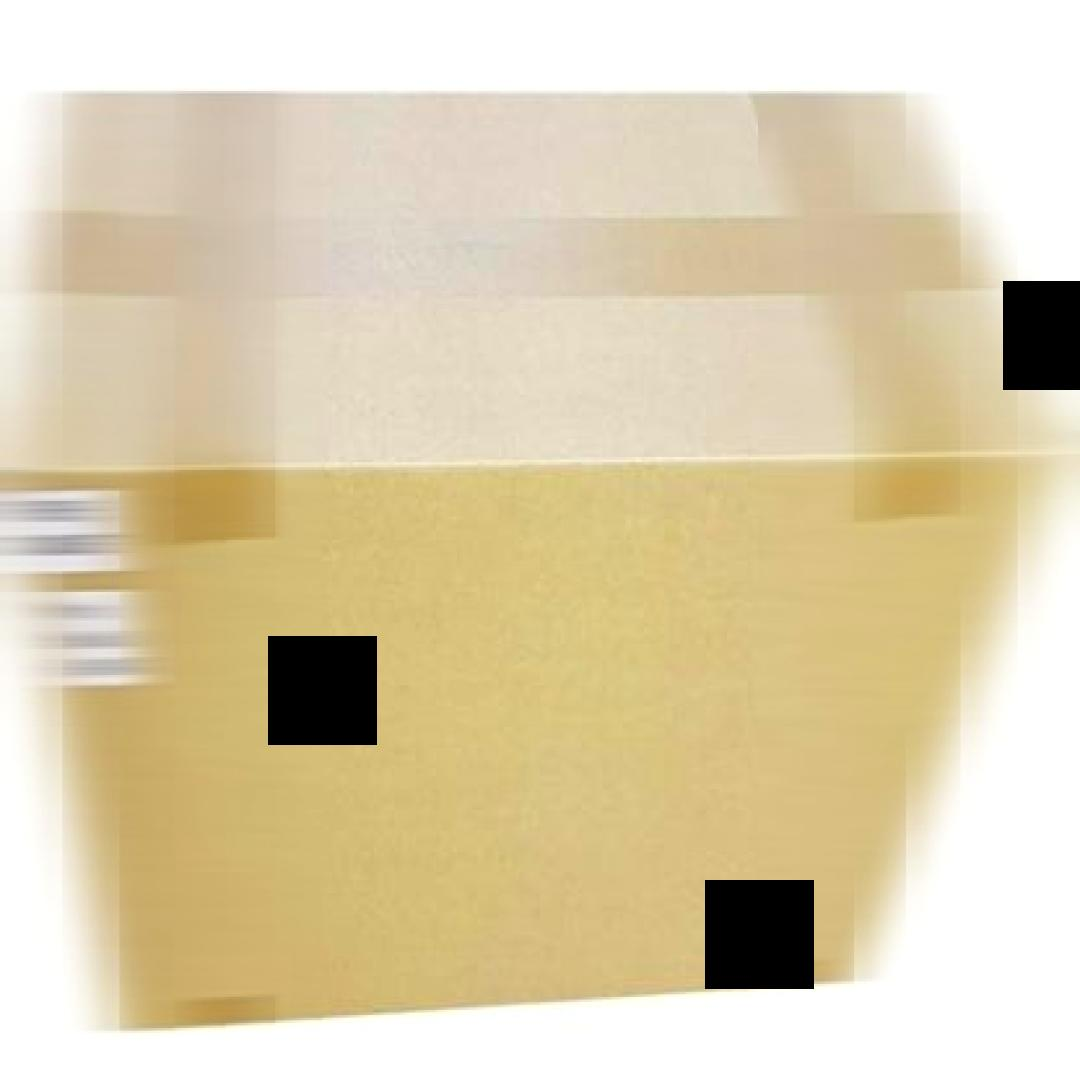package: (12, 88, 1064, 1036)
